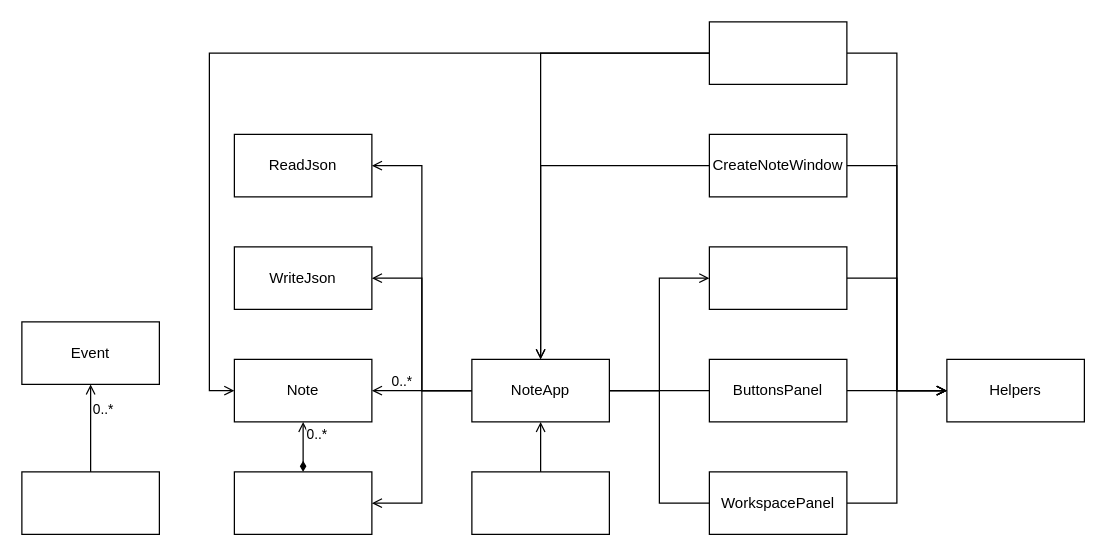
The diagram is 1106 pixels wide and 556 high, and some of its shapes have lost their labels. Each missing label, with the centre of its shape:
EventLog: point (90, 502)
Main: point (540, 502)
NoteBook: point (302, 502)
NoteWindow: point (777, 52)
NotificationPanel: point (777, 277)
